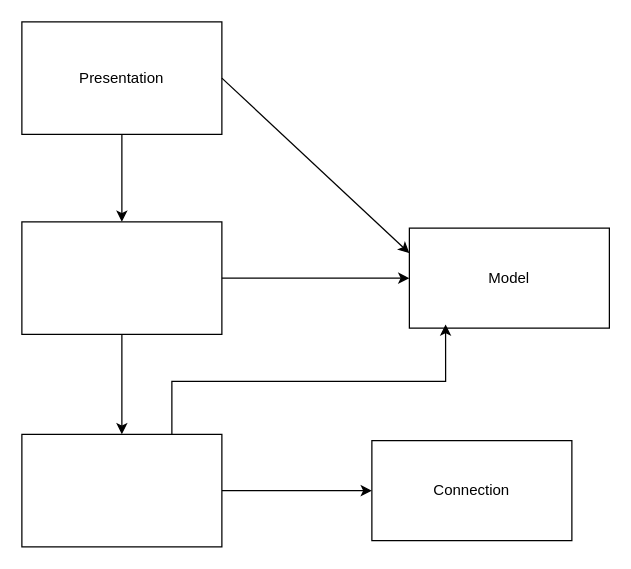
Image size: 631x569. Some labels were removed from this diagram. The shapes that lost their labels are listed below. From the top down, each one's centre as x and y in pixels, then its label:
[121,277]: BusinessLogic
[121,490]: Data_Access
